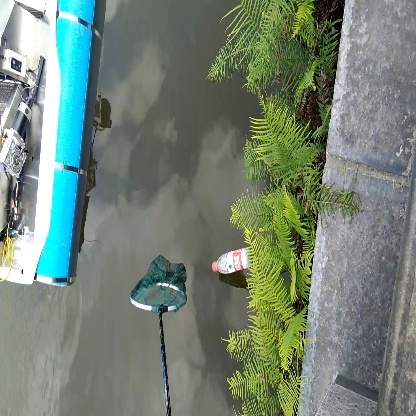bottle: (211, 245, 265, 283)
